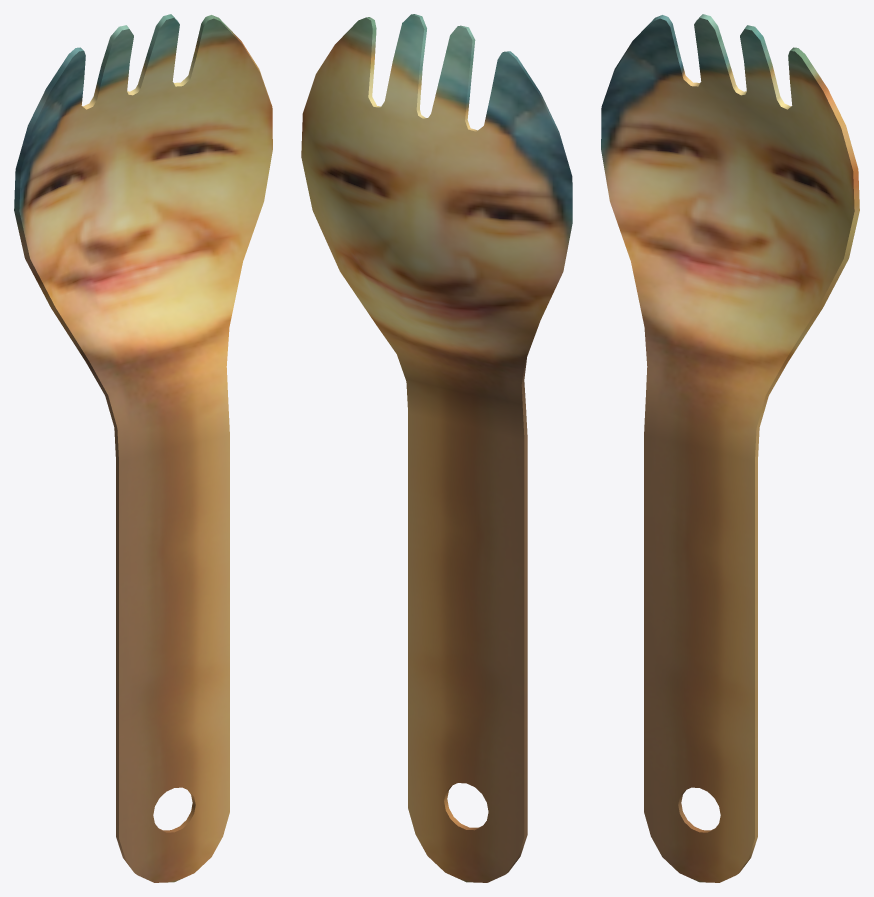
File: sporkThatsnice.glb
3 renders of one model, left to right at view 1: azimuth 30°, elevation 25°; view 2: azimuth 150°, elevation 25°; view 3: azimuth 330°, elevation 25°, orthographic. The views are drawn at different scales.
Parts seen in each view (by area): view 1: sporkThatsnice; view 2: sporkThatsnice; view 3: sporkThatsnice.
Part boxes in pixels (x1,y1,x2,y2): sporkThatsnice: (14,14,272,882); sporkThatsnice: (301,14,572,882); sporkThatsnice: (601,14,859,882).
Size of the model in its own units: 0.0483 by 0.15 by 0.017.
Materials: 1 (1 with a texture image).
